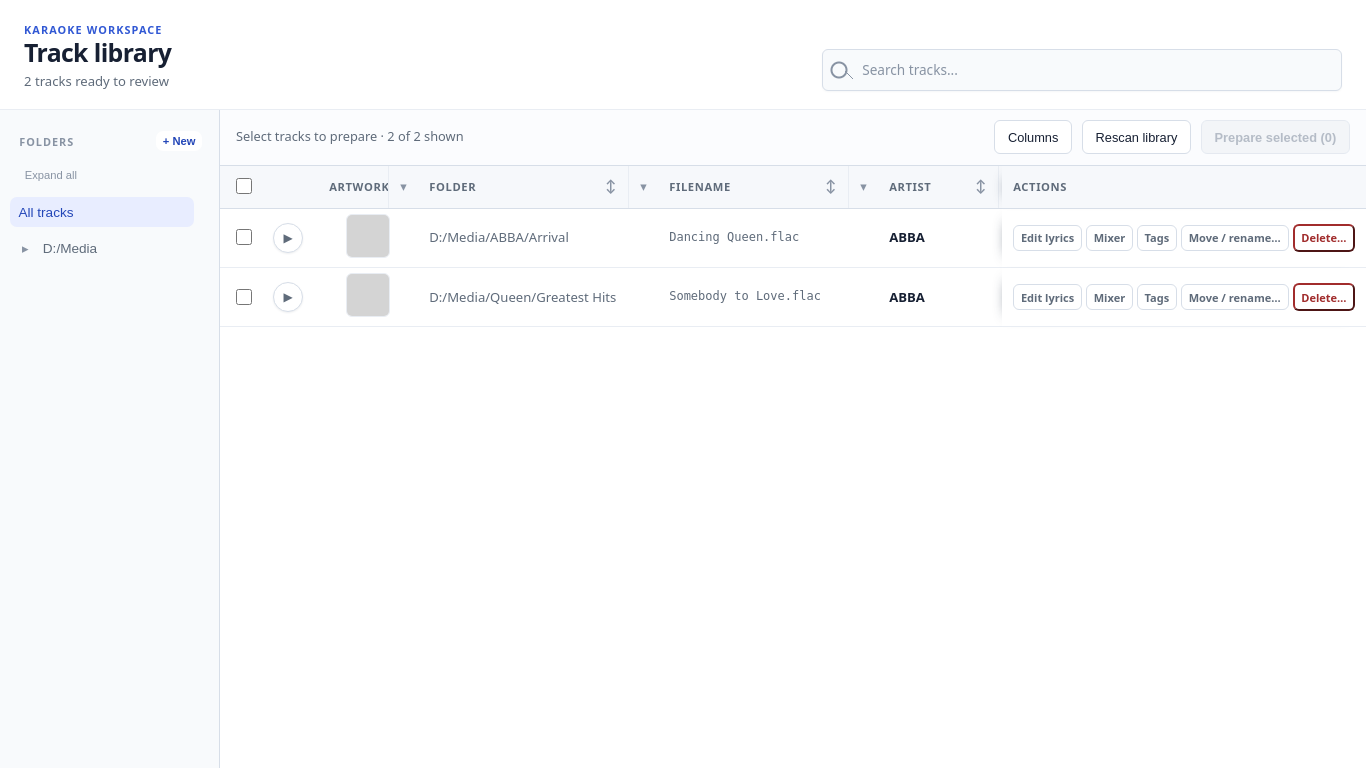
Test case: Library › collapses and expands all folder branches from the folder heading
Expected: the element named "Folder list" is shown, [10,197,194,263]
Click the button "Expand all": point(51, 176) [19,166,83,186]
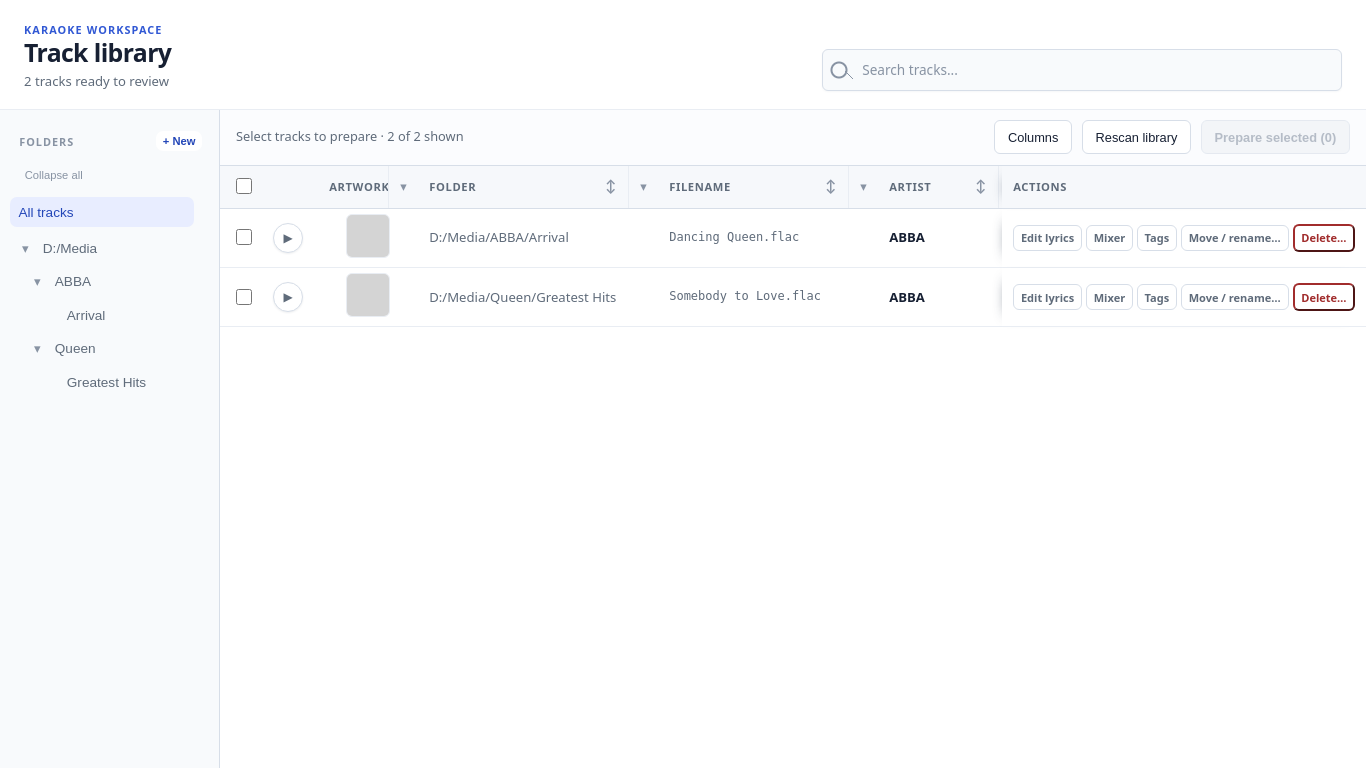
Result: the button "ABBA" is shown at [50,267,194,297]
Result: the button "Arrival" is shown at [62,300,194,330]
Click the button "Collapse all": point(54, 176) [19,166,88,186]
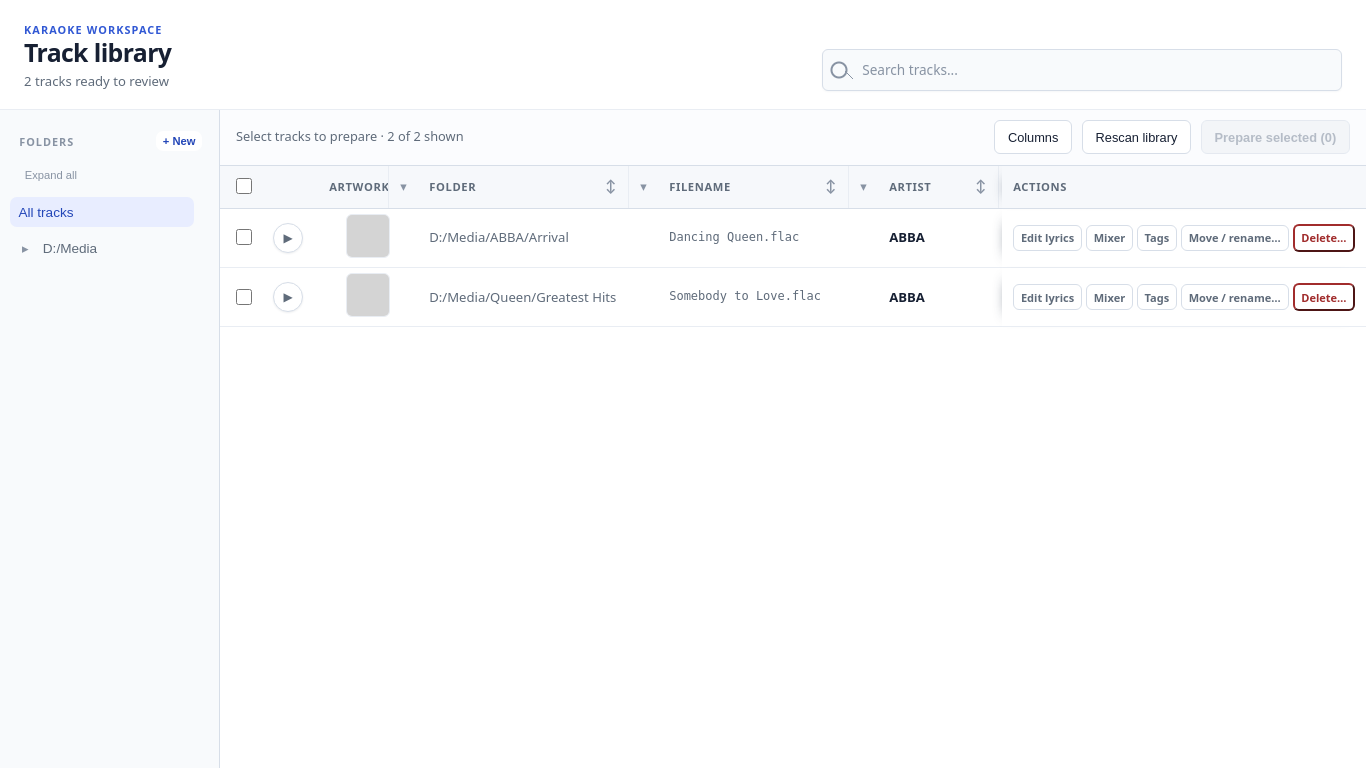
Result: the button "Expand all" is shown at [19,166,83,186]
